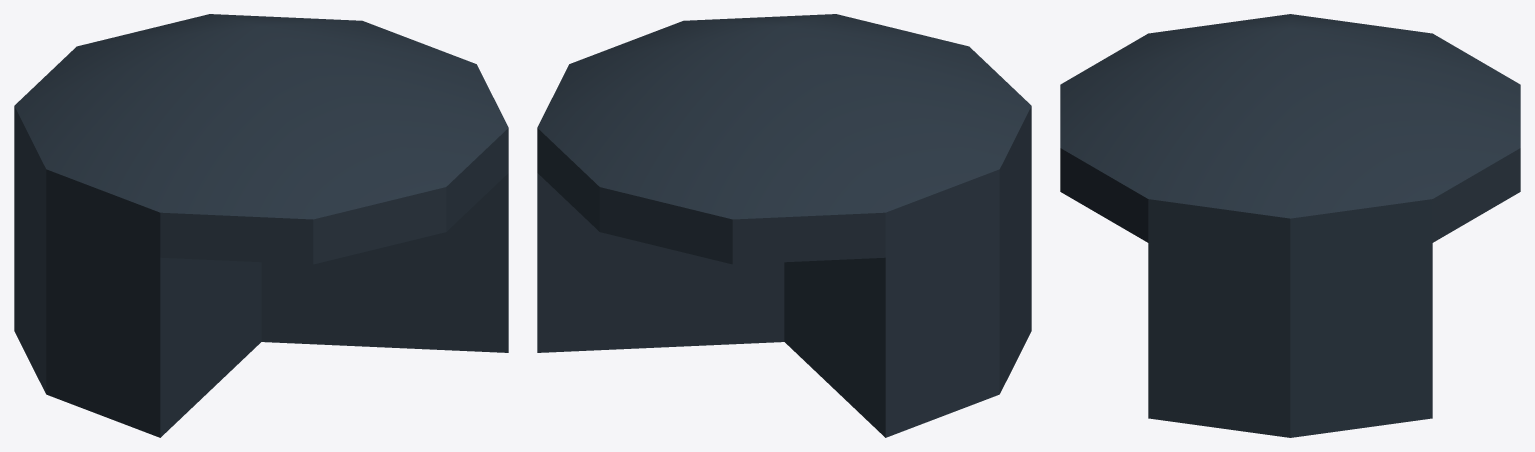
Rendered from RoundWithFlaps.fbx.
3 views of the same model, side by side, from view 1: azimuth 30°, elevation 25°; view 2: azimuth 150°, elevation 25°; view 3: azimuth 270°, elevation 25° (orthographic). The views are drawn at different scales.
Parts seen in each view (by area): view 1: pCylinder2; view 2: pCylinder2; view 3: pCylinder2.
Boxes of the visible parts, x1=… form: pCylinder2: x1=14, y1=14, x2=508, y2=437; pCylinder2: x1=537, y1=14, x2=1031, y2=437; pCylinder2: x1=1060, y1=14, x2=1520, y2=437.
Bounding box in the file's own units: 100 × 70 × 95.11.
